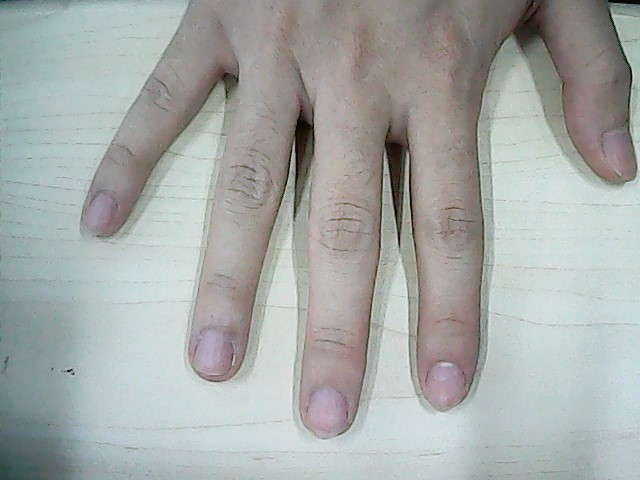nail: (299, 381, 350, 438), (422, 357, 471, 415), (598, 121, 640, 186), (193, 325, 232, 381), (83, 190, 114, 242)
